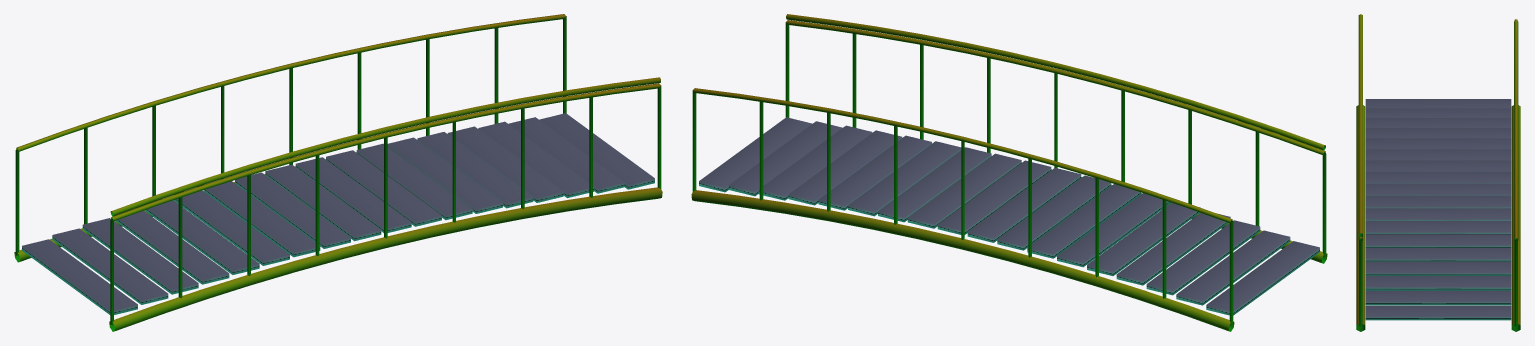
Rendered from vey_gallery_bridge.glb.
The picture shows the model from 3 angles, left to right: view 1: azimuth 30°, elevation 25°; view 2: azimuth 150°, elevation 25°; view 3: azimuth 270°, elevation 25°; orthographic projection. The views are drawn at different scales.
Parts seen in each view (by area): view 1: vey_gallery_bridge; view 2: vey_gallery_bridge; view 3: vey_gallery_bridge.
Part boxes in pixels (left/top/right/bottom): vey_gallery_bridge: left=14, top=14, right=662, bottom=331; vey_gallery_bridge: left=691, top=14, right=1327, bottom=331; vey_gallery_bridge: left=1356, top=14, right=1520, bottom=331.
Size of what is drawn, in the model's own units: 6.04 by 1.45 by 1.9.
